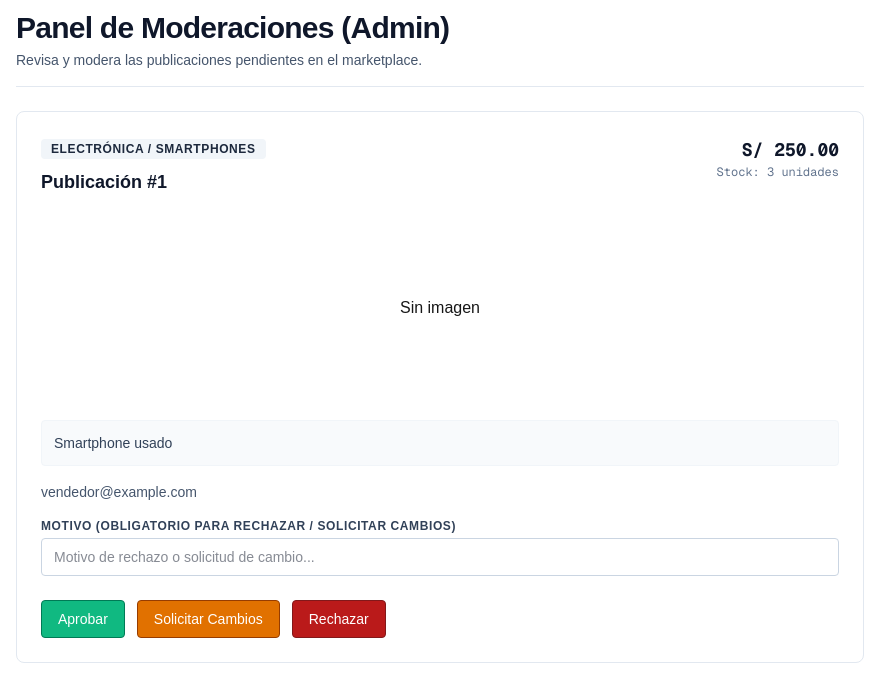
Test case: PanelModeracion (PHA02TSK13) › envía exitosamente Rechazar cuando se proporciona un motivo válido
Type "Producto prohibido por políticas de seguridad" into the field labelled "Motivo (Obligatorio para Rechazar / Solicitar Cambios)". click: {"x": 440, "y": 557}
box: [41, 538, 839, 576]
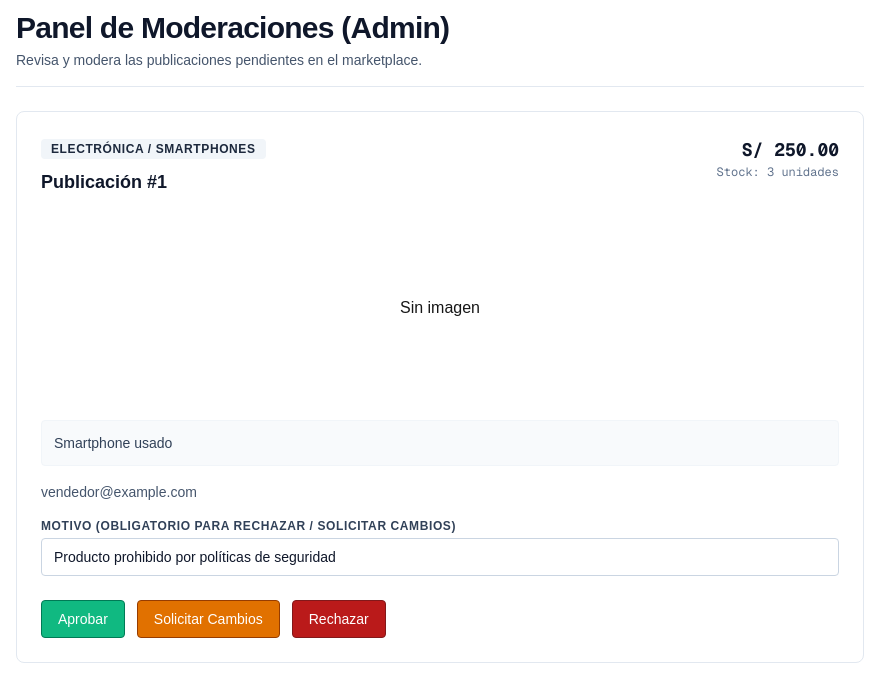
Click the button "Rechazar". click: {"x": 339, "y": 619}
box: [292, 600, 386, 638]
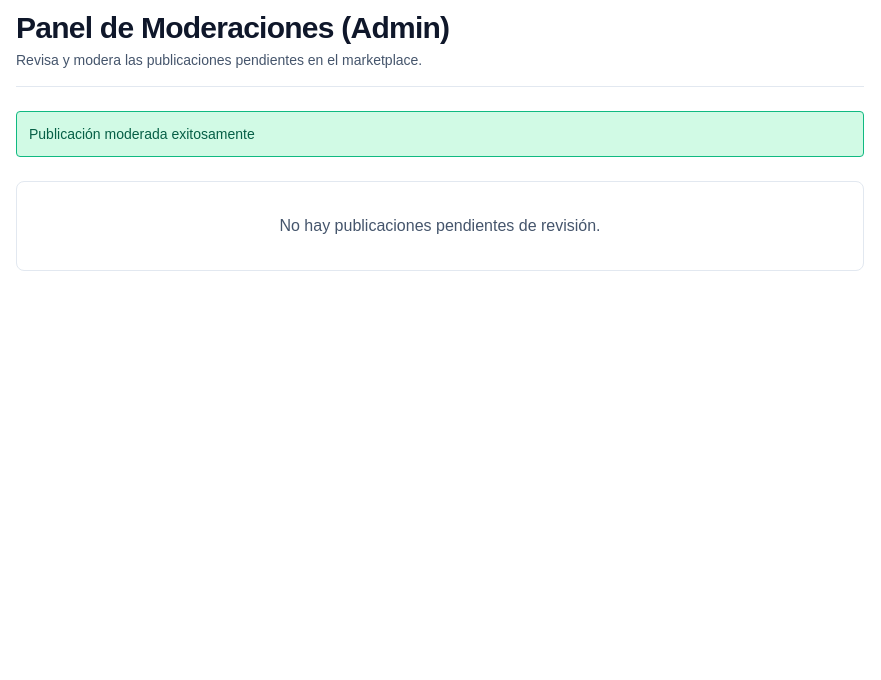
Result: the text "Publicación moderada exitosamente" is shown at [16, 111, 864, 157]
